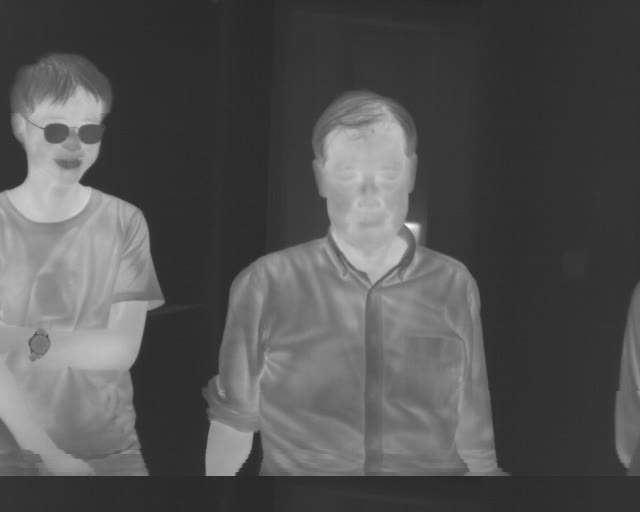face: (310, 88, 419, 252), (9, 51, 109, 187)
